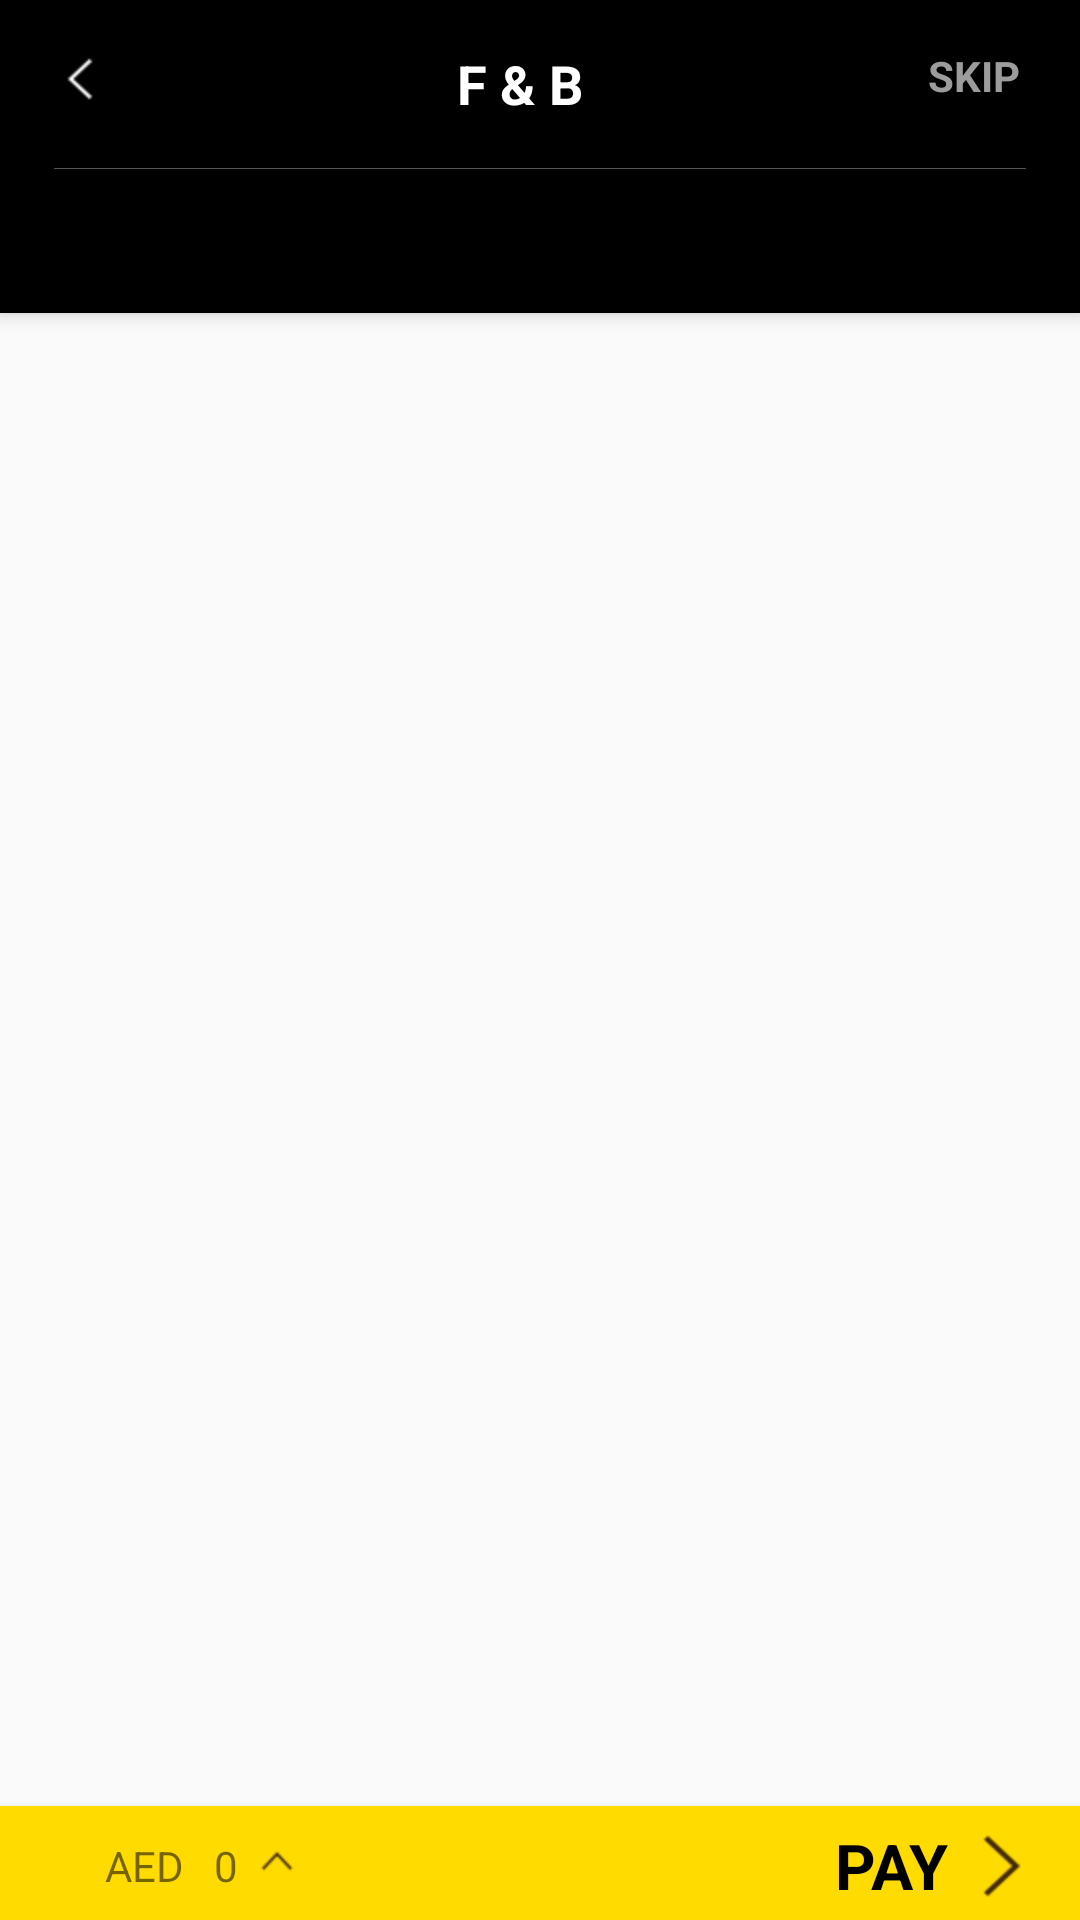

Named icons in this screenshot (1080 × 1920) and their centers, (x=x, y=y):
arrow left: (x=80, y=79)
arrow right: (x=1001, y=1866)
arrow top: (x=277, y=1861)
